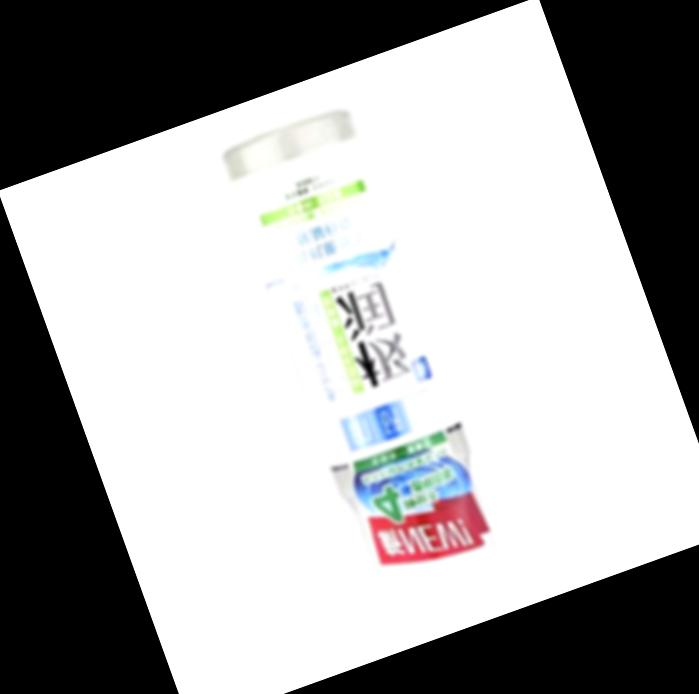cosmetic: (218, 113, 507, 608)
